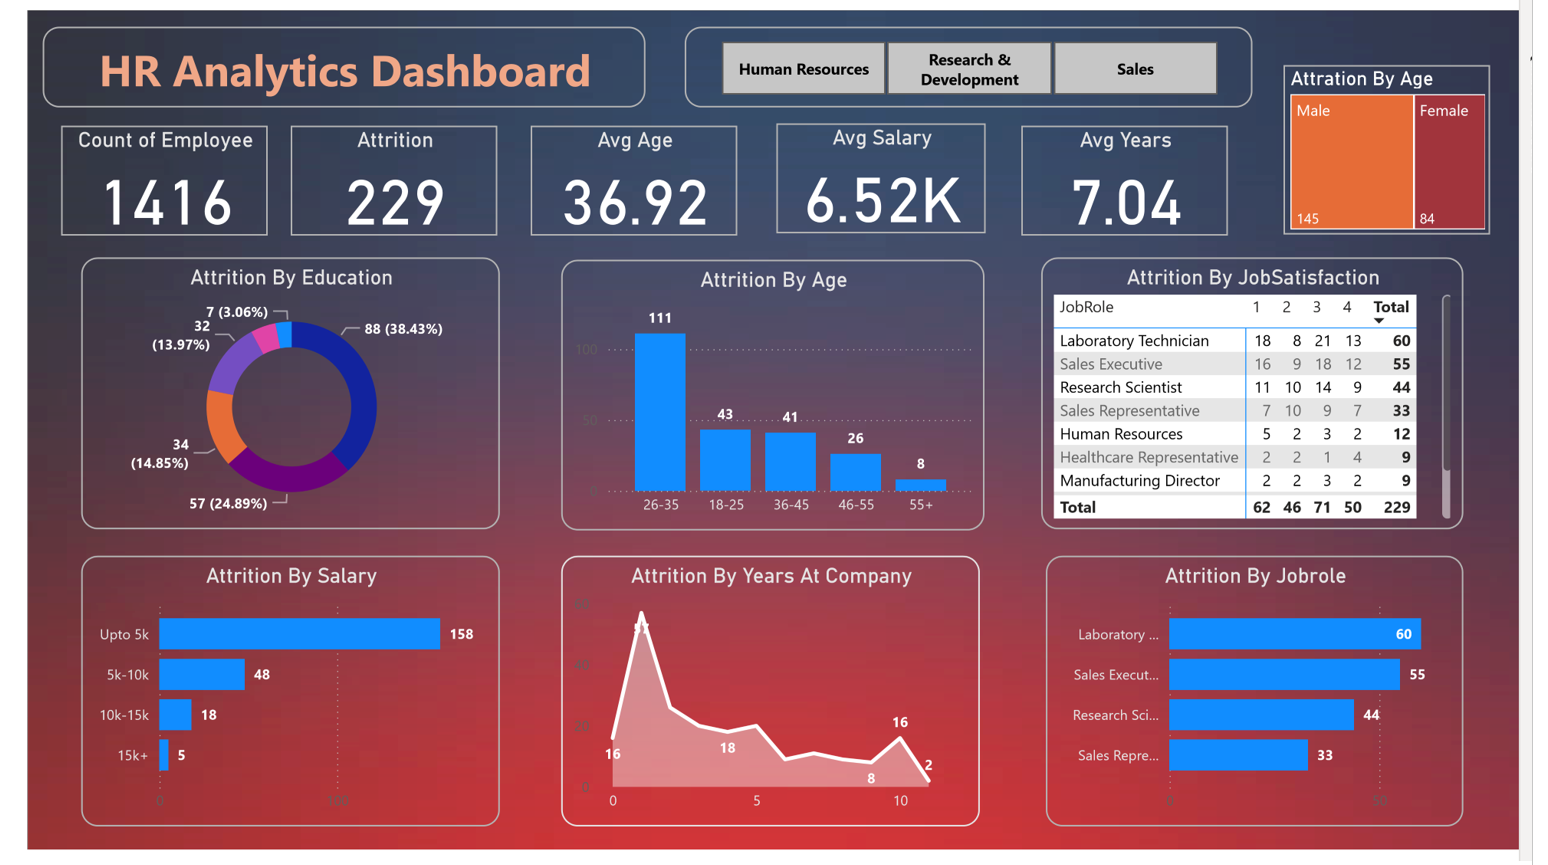

The dashboard page shown, as its layout file describes it:
{"tool":"powerbi","page":{"name":"Page 1","canvas":[1280,720],"ordinal":0},"visuals":[{"type":"card","title":"Count of Employee","fields":{"Values":["CountNonNull(HR_Analytics.EmpID)"]},"box":[28.5,99.2,177,93.3],"z":0},{"type":"card","title":"Avg Salary","fields":{"Values":["Avg(HR_Analytics.MonthlyIncome)"]},"box":[643.4,97.2,178.2,94.1],"z":1000},{"type":"card","title":"Avg Age","fields":{"Values":["Avg(HR_Analytics.Age)"]},"box":[432.5,98.6,176.7,94.1],"z":2000},{"type":"card","title":"Attrition","fields":{"Values":["Sum(HR_Analytics.Attration sum)"]},"box":[226.1,99.2,177,93.3],"z":3000},{"type":"card","title":"Avg Years","fields":{"Values":["Avg(HR_Analytics.YearsAtCompany)"]},"box":[853,98.6,176.7,94.1],"z":4000},{"type":"donutChart","title":"Attrition By Education","fields":{"Category":["HR_Analytics.EducationField"],"Y":["Sum(HR_Analytics.Attrationcount)"]},"box":[45.9,212.4,359.2,232.3],"z":5000},{"type":"columnChart","title":"Attrition By Age","fields":{"Category":["HR_Analytics.AgeGroup"],"Y":["Sum(HR_Analytics.Attrationcount)"]},"box":[457.8,213.8,363.5,232.3],"z":6000},{"type":"pivotTable","title":"Attrition By JobSatisfaction","fields":{"Rows":["HR_Analytics.JobRole"],"Columns":["HR_Analytics.JobSatisfaction"],"Values":["Sum(HR_Analytics.Attrationcount)"]},"box":[869.8,212.4,362,232.3],"z":7000},{"type":"barChart","title":"Attrition By Salary","fields":{"Category":["HR_Analytics.SalarySlab"],"Y":["Sum(HR_Analytics.Attrationcount)"]},"box":[45.9,467.5,359.2,232.3],"z":8000},{"type":"barChart","title":"Attrition By Jobrole","fields":{"Category":["HR_Analytics.JobRole"],"Y":["Sum(HR_Analytics.Attrationcount)"]},"box":[874,467.5,357.8,232.3],"z":9000},{"type":"areaChart","title":"Attrition By Years At Company","fields":{"Y":["Sum(HR_Analytics.Attrationcount)"],"Category":["HR_Analytics.YearsAtCompany"]},"box":[457.8,467.5,359.2,232.3],"z":10000},{"type":"treemap","title":"Attration By Age","fields":{"Values":["Sum(HR_Analytics.Attrationcount)"],"Group":["HR_Analytics.Gender"]},"box":[1077.9,47,176.7,145.4],"z":11000},{"type":"slicer","fields":{"Values":["HR_Analytics.Department"]},"box":[564.5,14.3,486.1,68.4],"z":12000},{"type":"textbox","box":[12.8,14.3,517.4,68.4],"z":13000}]}

Visuals, with their boxes in screenshot pixels (x1, y1, x2, y2), scaled from the page's 1280x720 canvas onto the 1548x865 screenshot:
"Count of Employee" card: bbox=[34, 119, 249, 231]
"Avg Salary" card: bbox=[778, 117, 994, 230]
"Avg Age" card: bbox=[523, 118, 737, 232]
"Attrition" card: bbox=[273, 119, 487, 231]
"Avg Years" card: bbox=[1032, 118, 1245, 232]
"Attrition By Education" donutChart: bbox=[56, 255, 490, 534]
"Attrition By Age" columnChart: bbox=[554, 257, 993, 536]
"Attrition By JobSatisfaction" pivotTable: bbox=[1052, 255, 1490, 534]
"Attrition By Salary" barChart: bbox=[56, 562, 490, 841]
"Attrition By Jobrole" barChart: bbox=[1057, 562, 1490, 841]
"Attrition By Years At Company" areaChart: bbox=[554, 562, 988, 841]
"Attration By Age" treemap: bbox=[1304, 56, 1517, 231]
slicer - HR_Analytics.Department: bbox=[683, 17, 1271, 99]
textbox: bbox=[15, 17, 641, 99]
